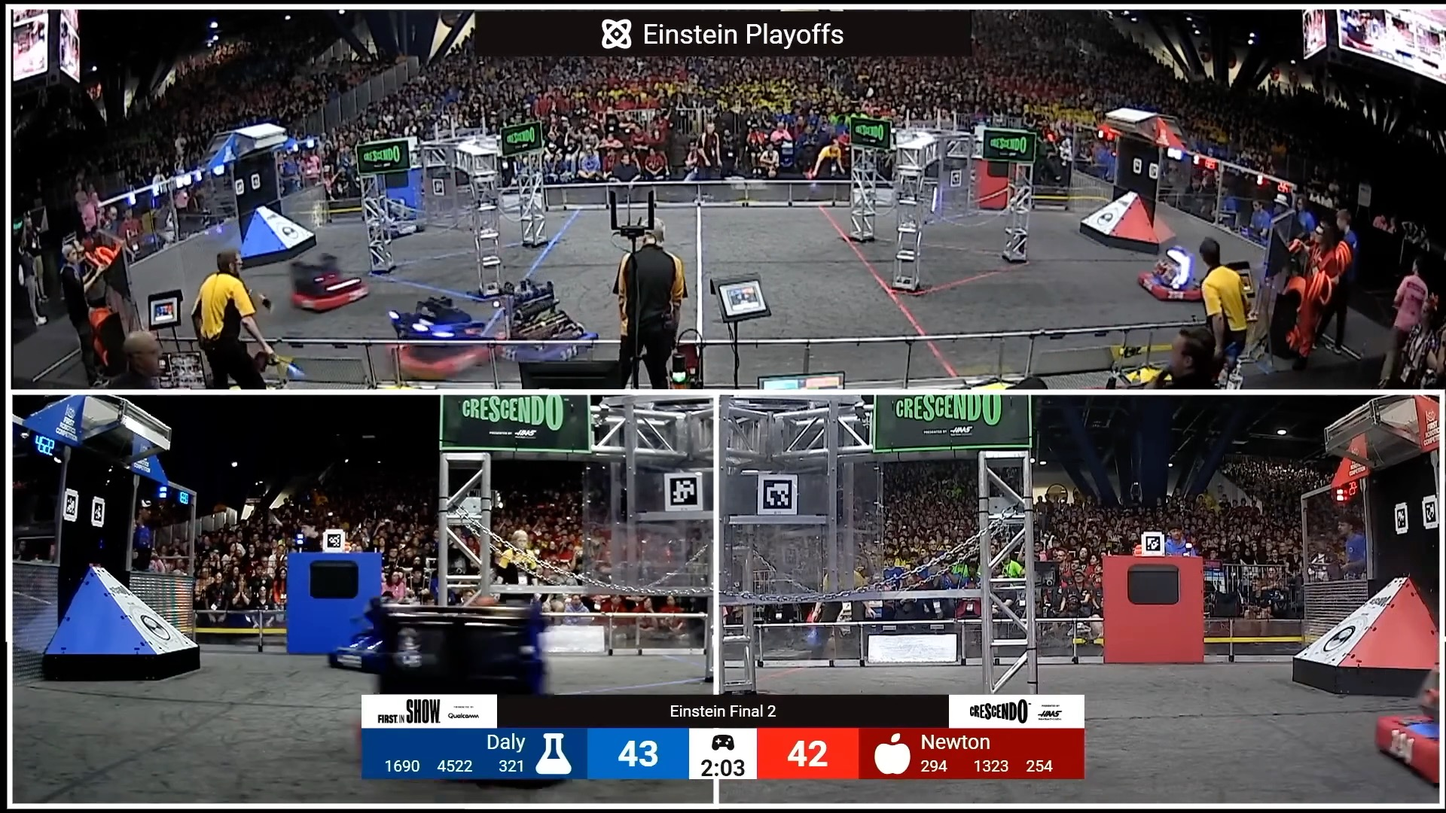bumpers: (375, 323, 507, 384), (1375, 708, 1446, 791), (1135, 265, 1224, 308), (286, 279, 378, 317), (328, 648, 411, 677), (364, 218, 432, 240)
